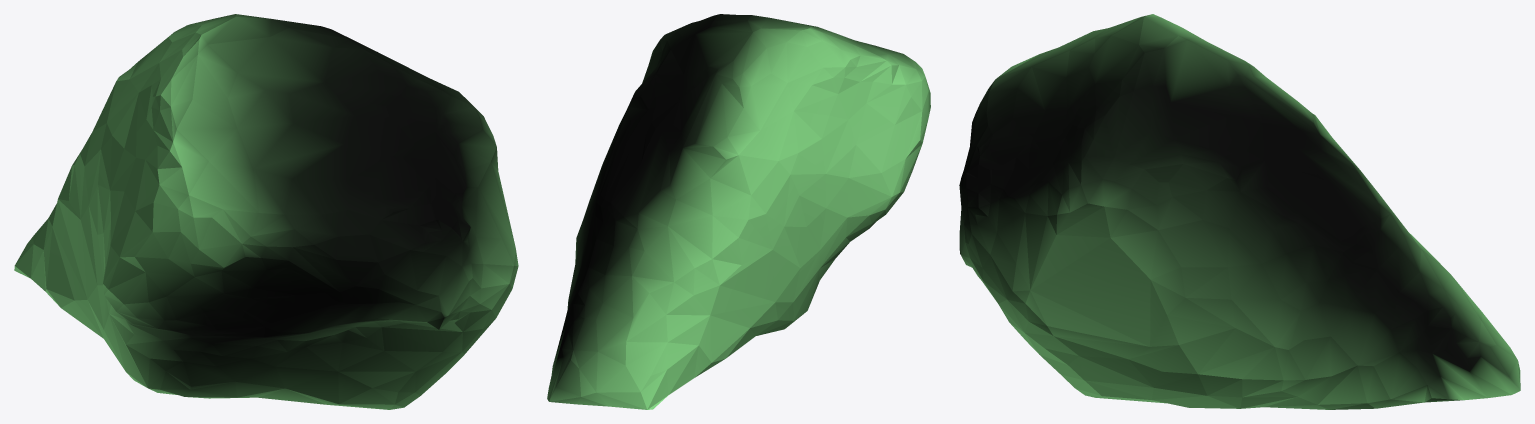
The model's file is Geometry10_lao.dae.
3 views of the same model, side by side, from view 1: azimuth 30°, elevation 25°; view 2: azimuth 150°, elevation 25°; view 3: azimuth 270°, elevation 25° (orthographic). The views are drawn at different scales.
Parts seen in each view (by area): view 1: node; view 2: node; view 3: node.
Part boxes in pixels (x1,y1,x2,y2): node: [14, 14, 518, 409]; node: [547, 14, 930, 409]; node: [959, 14, 1520, 409].
Size of the model in its own units: 17.2 by 17.6 by 27.78.
